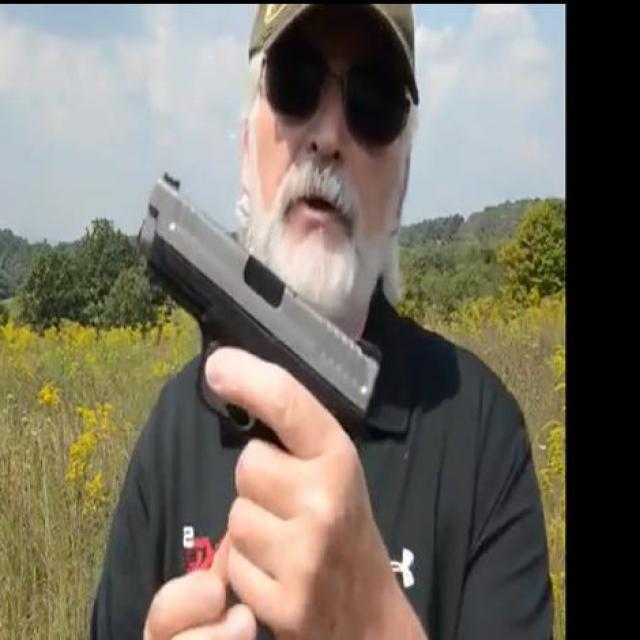Gun: (135, 173, 384, 586)
